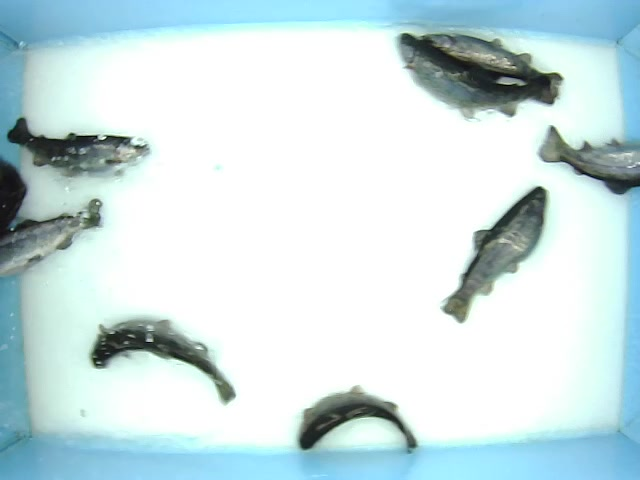fish: (392, 27, 557, 122), (441, 184, 549, 326), (88, 314, 239, 406), (4, 116, 153, 181), (297, 386, 424, 458), (418, 32, 561, 88)
